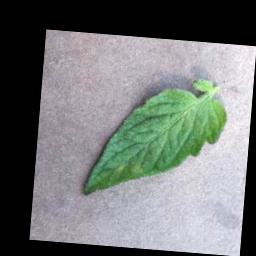Leaf_Mold: (113, 162, 127, 177), (130, 162, 143, 175)
